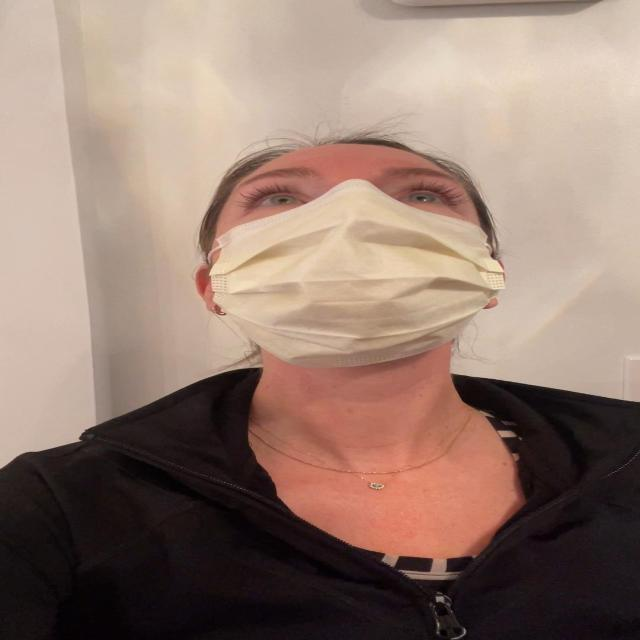no-helmet: (190, 131, 520, 392)
